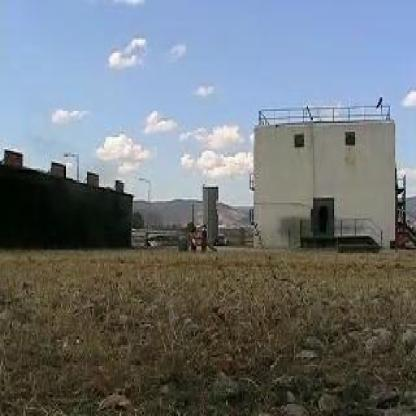-: (157, 213, 189, 232)
foggia-v2-map80-epoch100 - v1 4323: (188, 231, 203, 249)
